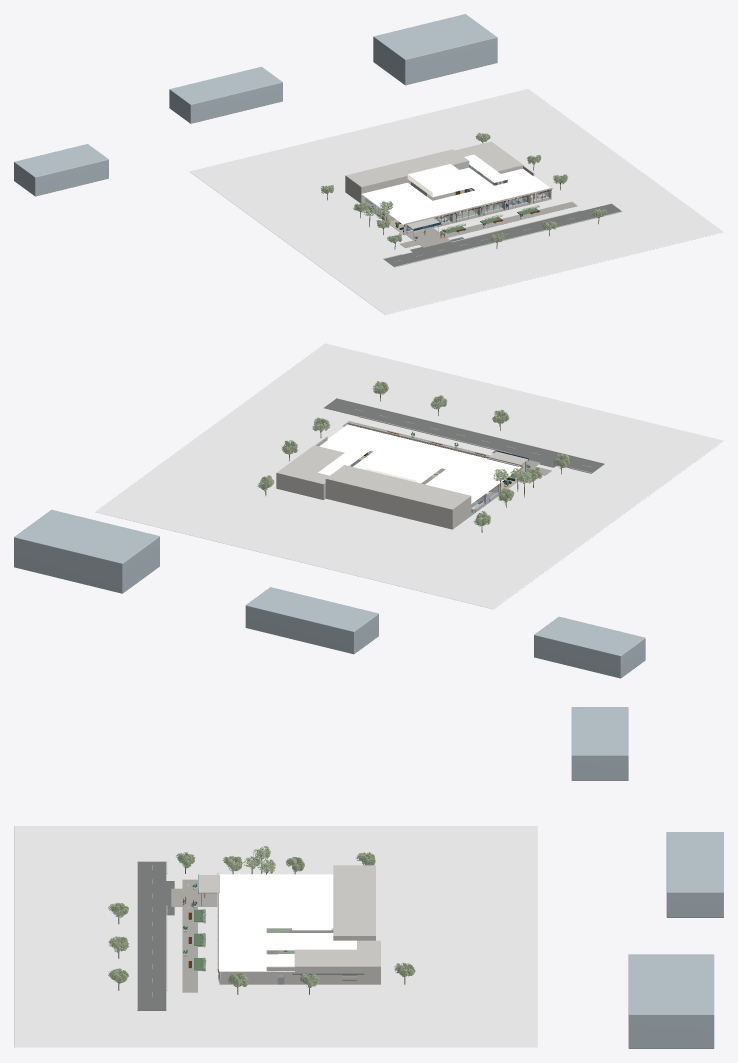
File: facility_v5e.glb
3 renders of one model, top to bottom at view 1: azimuth 30°, elevation 25°; view 2: azimuth 150°, elevation 25°; view 3: azimuth 270°, elevation 25°, orthographic. The views are drawn at different scales.
Visible parts, largest first — view 1: Site lawn, Distant hospital massing ql, Distant hospital massing qk, Distant hospital massing, Access road, Vault ceiling, Clinical roof slab oz, Clinical roof slab on, Entrance promenade, Technical roof slab, Canopy approach, WALLS_wall_exterior; view 2: Site lawn, Distant hospital massing ql, Distant hospital massing qk, Distant hospital massing, Access road, Vault ceiling, Vault north, Clinical roof slab oz, WALLS_wall_exterior, Technical roof slab, Clinical roof slab on, Clinical roof slab oy; view 3: Site lawn, Distant hospital massing ql, Distant hospital massing qk, Distant hospital massing, Access road, Vault ceiling, Clinical roof slab oz, WALLS_wall_exterior, Clinical roof slab on, Entrance promenade, Technical roof slab, Clinical roof slab oy (+6 smaller).
Part boxes in pixels (x1,y1,x2,y2): Site lawn: (189, 89, 723, 314); Distant hospital massing ql: (373, 14, 497, 85); Distant hospital massing qk: (169, 66, 282, 123); Distant hospital massing: (14, 144, 108, 196); Access road: (384, 203, 621, 266); Vault ceiling: (345, 149, 469, 187); Clinical roof slab oz: (407, 164, 475, 197); Clinical roof slab on: (387, 176, 538, 215); Entrance promenade: (400, 202, 577, 247); Technical roof slab: (466, 141, 514, 164); Canopy approach: (406, 228, 450, 247); WALLS_wall_exterior: (366, 165, 551, 234); Site lawn: (95, 343, 723, 609); Distant hospital massing ql: (14, 509, 159, 593); Distant hospital massing qk: (245, 587, 378, 654); Distant hospital massing: (534, 616, 645, 678); Access road: (324, 399, 603, 473); Vault ceiling: (325, 465, 471, 510); Vault north: (325, 479, 452, 529); Clinical roof slab oz: (366, 447, 446, 483); WALLS_wall_exterior: (276, 436, 521, 512); Technical roof slab: (276, 453, 333, 480); Clinical roof slab on: (327, 435, 505, 482); Clinical roof slab oy: (318, 443, 373, 475); Site lawn: (14, 826, 537, 1047); Distant hospital massing ql: (628, 954, 714, 1048); Distant hospital massing qk: (666, 832, 723, 917); Distant hospital massing: (571, 707, 628, 780); Access road: (138, 861, 166, 1010); Vault ceiling: (333, 865, 375, 936); Clinical roof slab oz: (266, 893, 333, 928); WALLS_wall_exterior: (219, 966, 380, 984); Clinical roof slab on: (252, 874, 266, 971); Entrance promenade: (182, 879, 197, 992); Technical roof slab: (319, 949, 380, 967); Clinical roof slab oy: (266, 940, 356, 950).
Size of the model in its own units: 157 by 8.18 by 149.
Materials: 77 (3 with a texture image).
